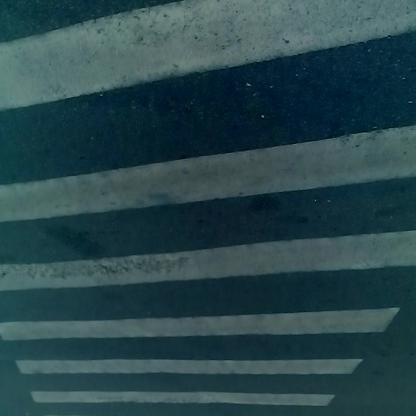crosswalk: (11, 2, 416, 411)
